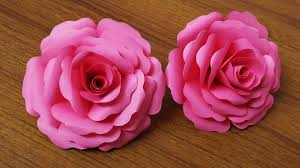lale: (21, 16, 166, 149), (158, 3, 283, 145)
